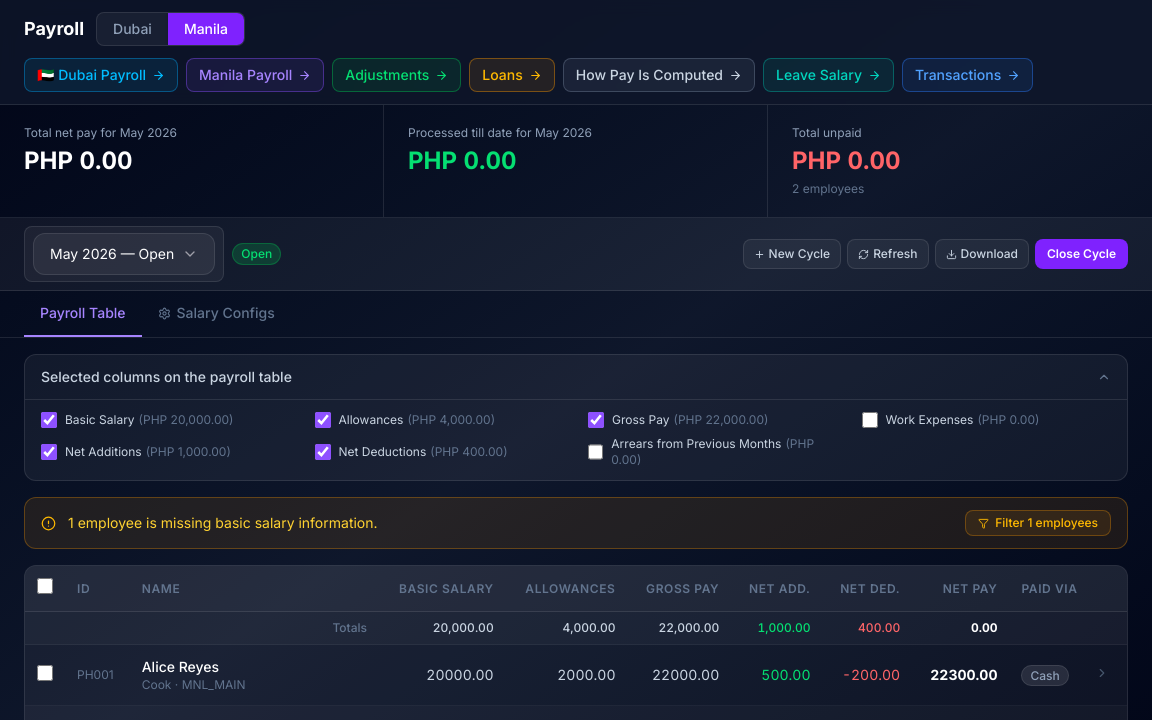
Test: PayrollPage › Payroll Table tab › missing salary warning › clicking filter toggles between filtered and all view
The image size is (1152, 720).
Click the button "Filter 1 employees". click: (1038, 523)
box: x1=965 y1=510 x2=1111 y2=536
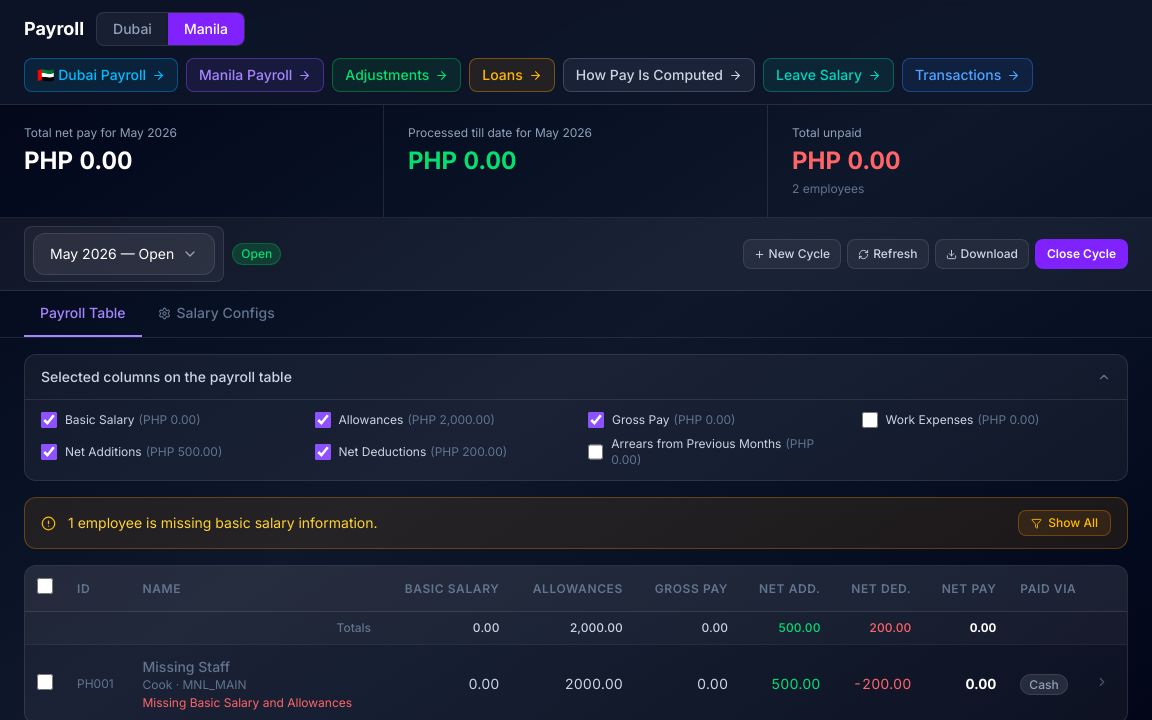
expect the text "Missing Staff" is shown: met, box x1=142 y1=658 x2=230 y2=675
expect the text "Alice Reyes" is gone: met
expect the button "Show All" is shown: met, box x1=1018 y1=510 x2=1111 y2=536
